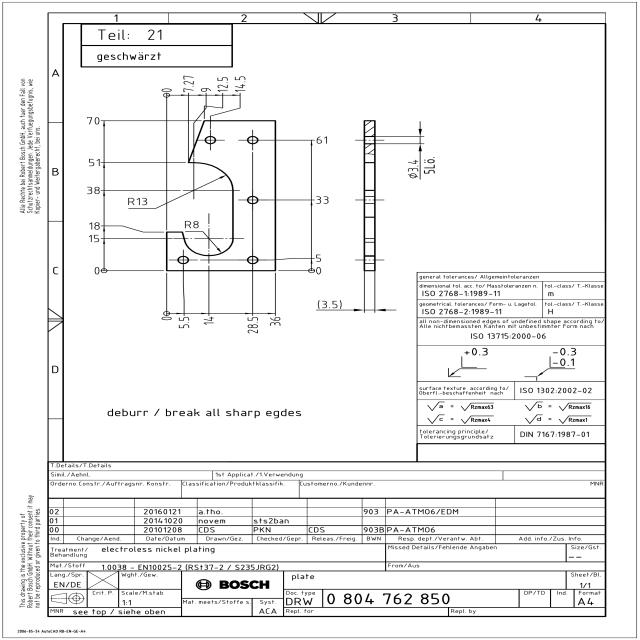dimension: (406, 156, 438, 180), (314, 297, 345, 310), (246, 316, 262, 335), (233, 75, 248, 92), (126, 196, 149, 207), (182, 75, 196, 92), (216, 76, 230, 92), (312, 195, 331, 206), (176, 316, 192, 329), (266, 316, 283, 328), (315, 134, 331, 146), (199, 315, 216, 326), (183, 219, 200, 230), (85, 185, 102, 196), (85, 115, 102, 126), (86, 157, 102, 168), (86, 234, 102, 244), (87, 221, 102, 231), (91, 265, 102, 276), (314, 253, 324, 264), (200, 87, 212, 92)
